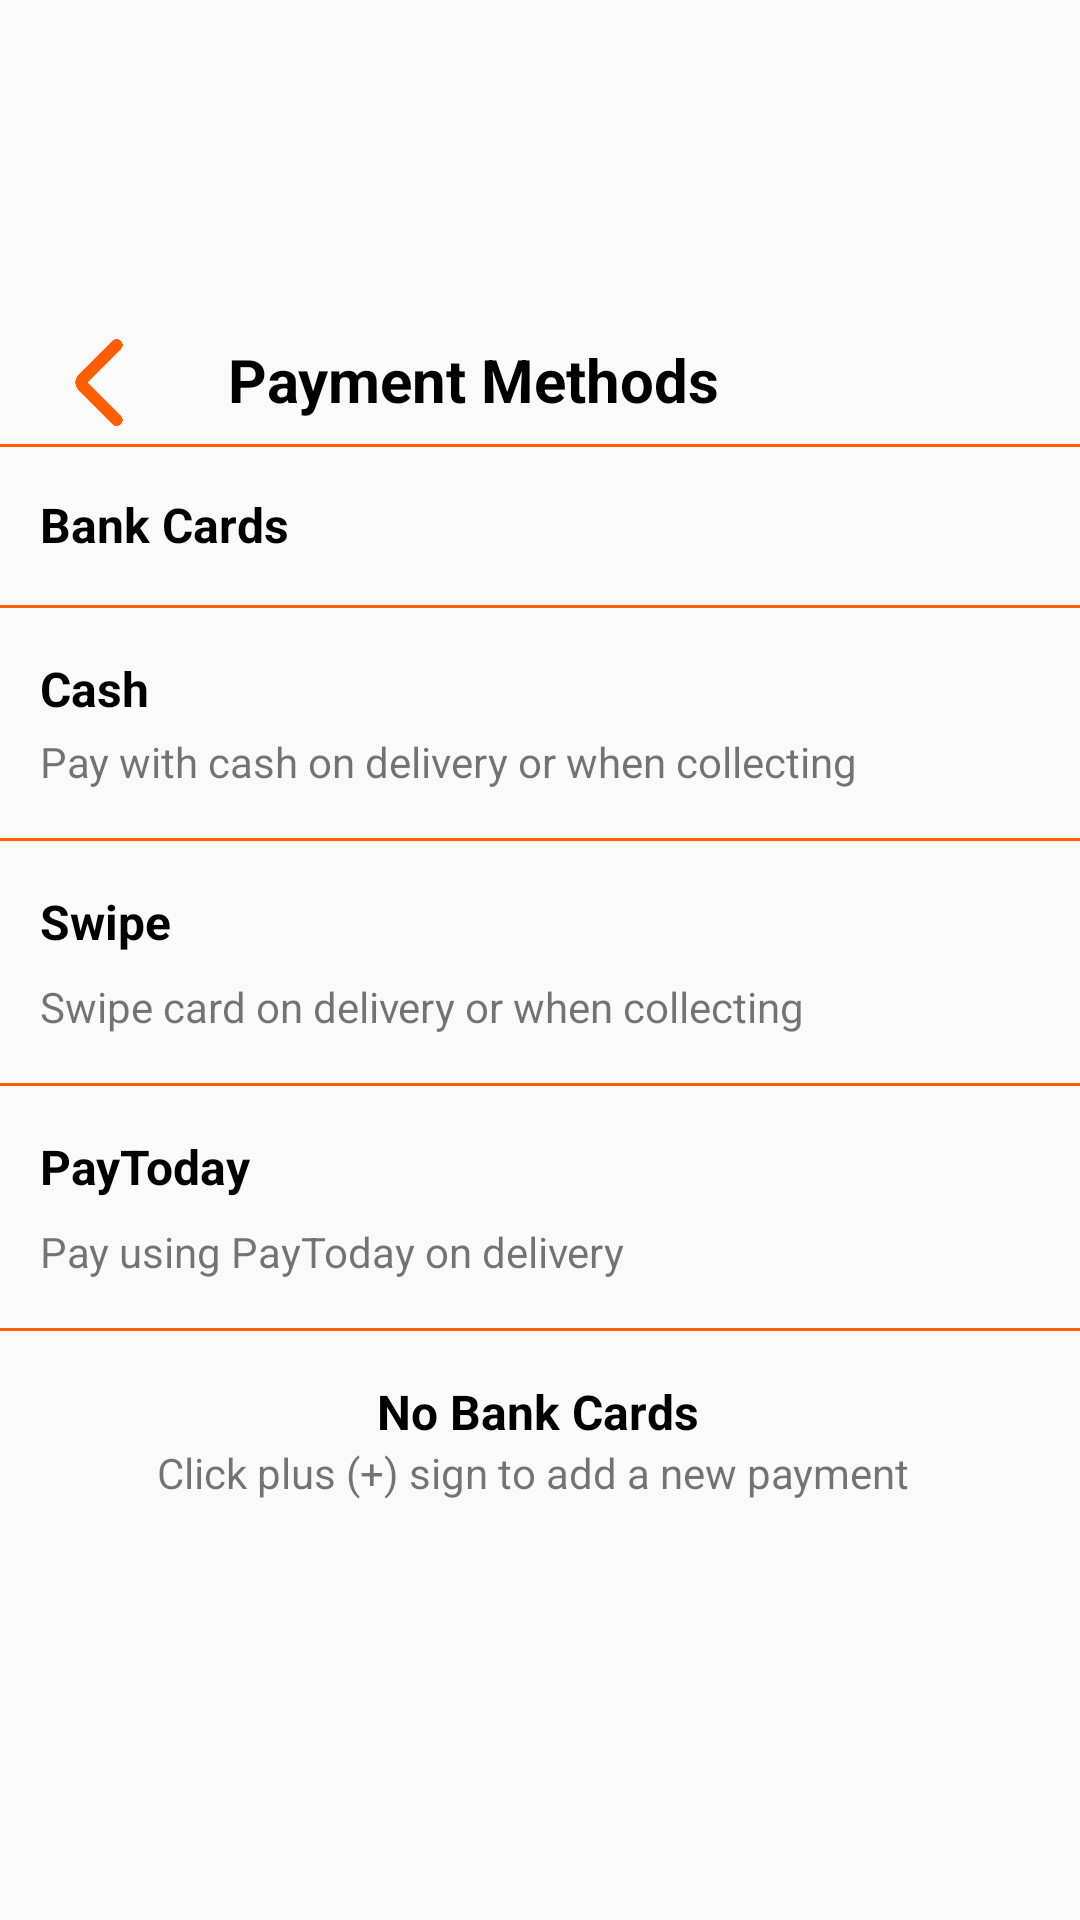

Where icons sit on this 1080px x 1920px app screen, as (x1, y1, x2, y2):
arrow left: (75, 339, 123, 426)
